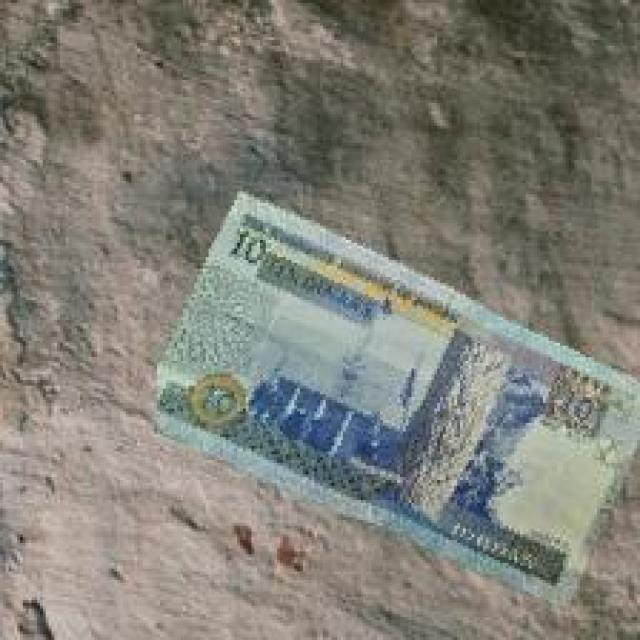10-dinar: (152, 196, 640, 614)
